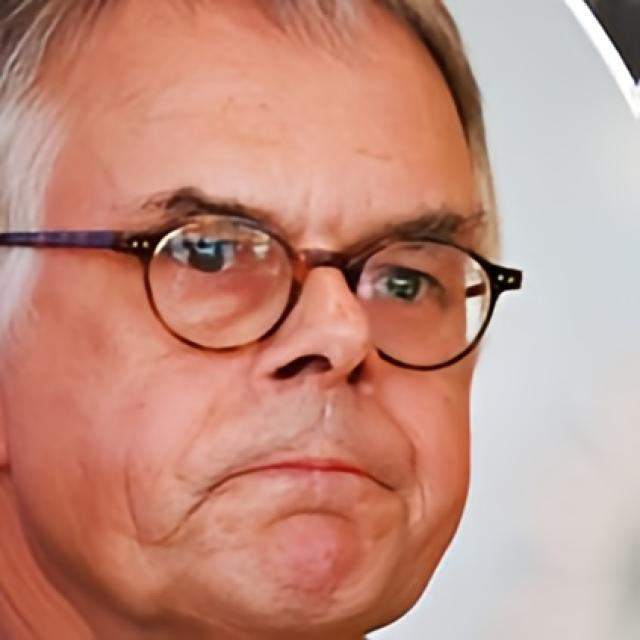anger: (10, 56, 488, 628)
